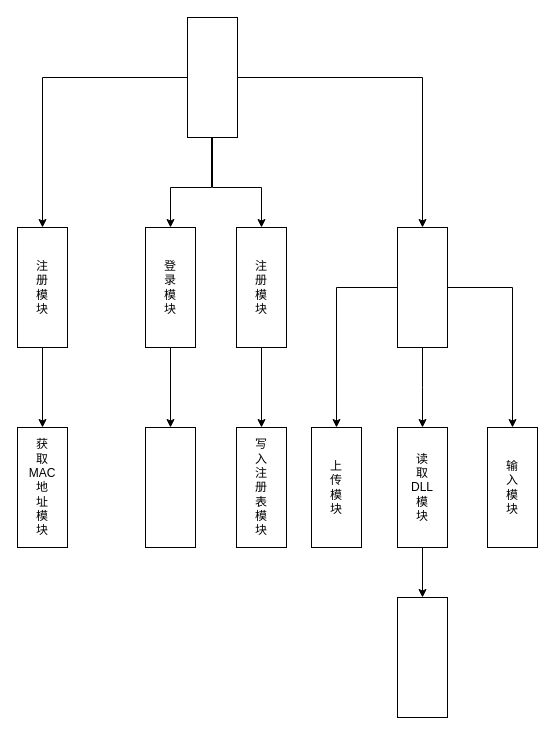
Some shapes in this 555 by 735 pixel diagram are drawn without their labels. Each missing label, with the box of its shape:
加 密 显 示 模 块: (396, 596, 448, 718)
加 密 模 块: (396, 226, 448, 348)
文 本 加 密 系 统: (186, 16, 238, 138)
读 取 注 册 表 模 块: (144, 426, 196, 548)
